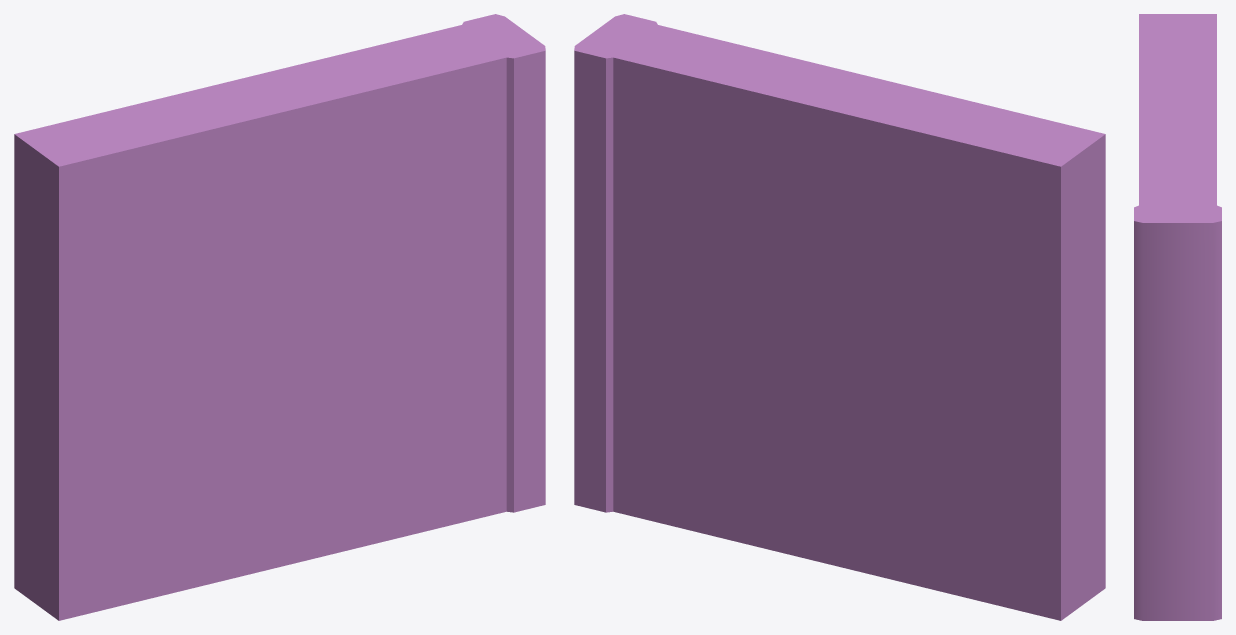
Rendered from Wall_A.fbx.
The picture shows the model from 3 angles, left to right: view 1: azimuth 30°, elevation 25°; view 2: azimuth 150°, elevation 25°; view 3: azimuth 270°, elevation 25°; orthographic projection. The views are drawn at different scales.
Visible parts, largest first — view 1: Wall_A; view 2: Wall_A; view 3: Wall_A.
Boxes of the visible parts, x1=… form: Wall_A: x1=14, y1=14, x2=545, y2=620; Wall_A: x1=574, y1=14, x2=1105, y2=620; Wall_A: x1=1134, y1=14, x2=1221, y2=620.
Bounding box in the file's own units: 900 × 800 × 160.
